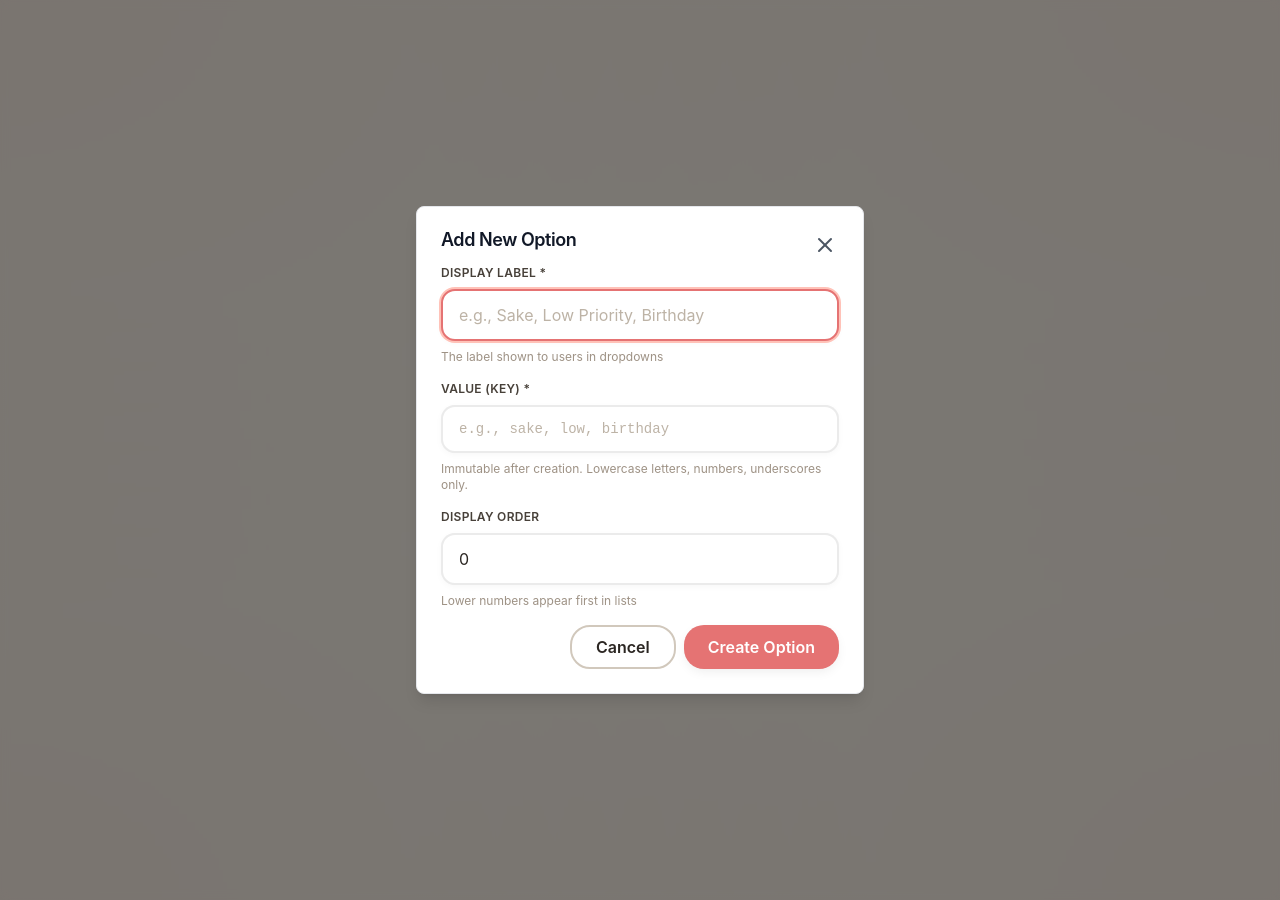
Scenario: AddOptionModal › converts spaces to underscores in auto-generated value
Step 1. Type "Super Spicy Ramen" into the field labelled "Display Label *" → (640,315), box [441,289,839,341]
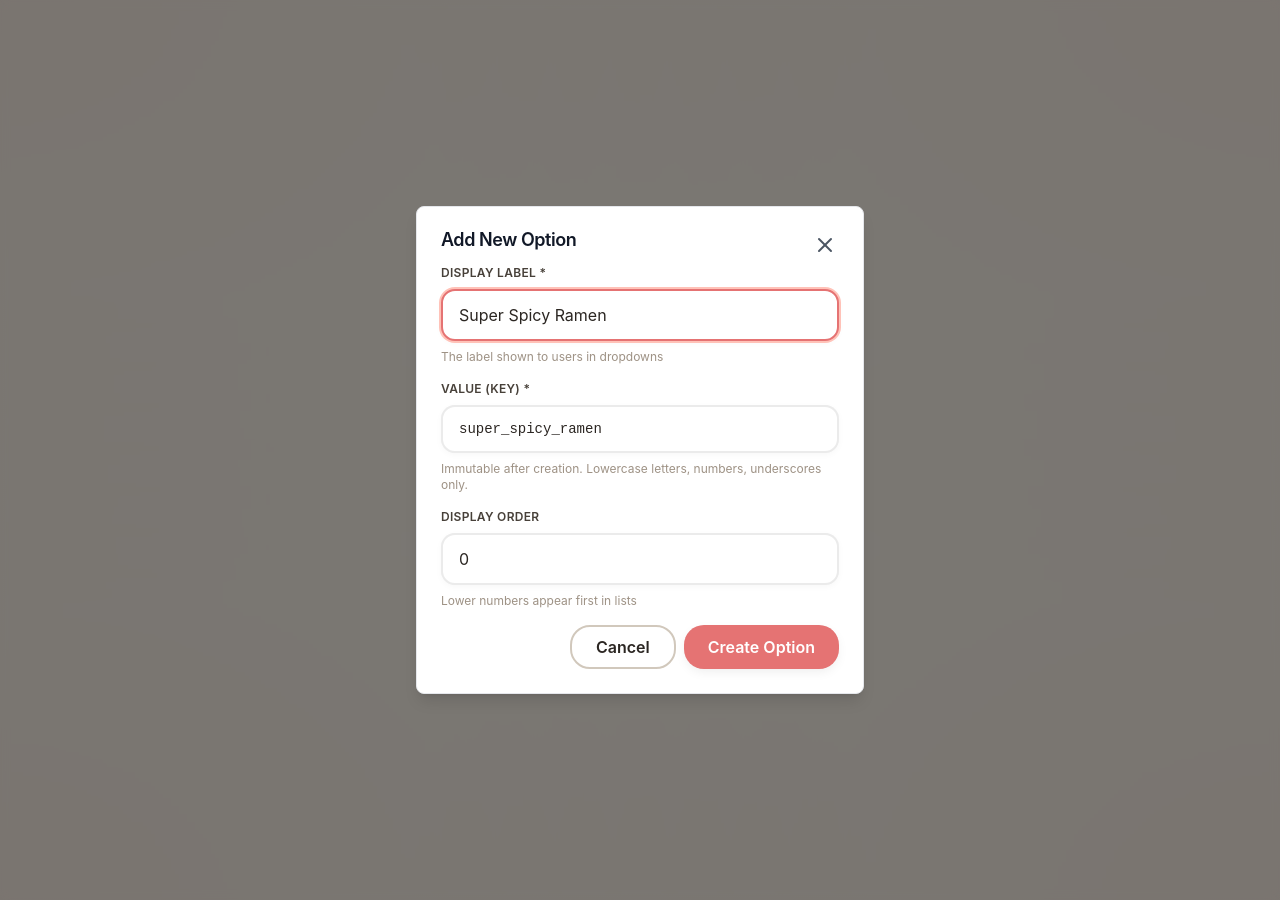
Check: the field labelled "Value (Key) *" holds "super_spicy_ramen", box [441,405,839,453]
